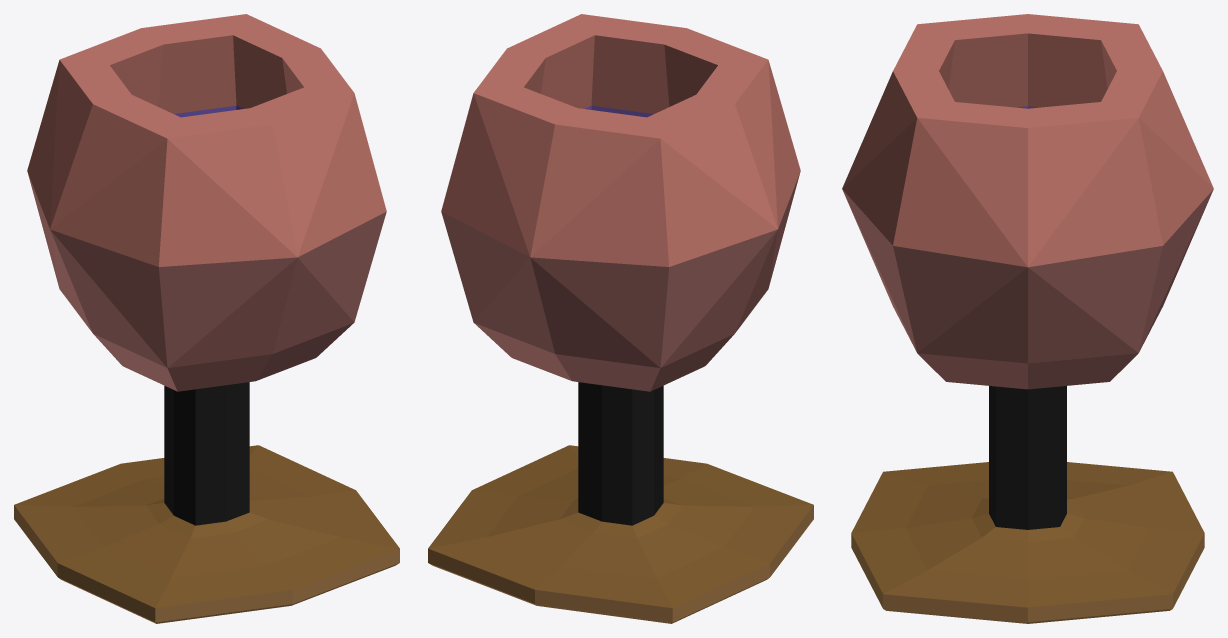
The model's file is bwoop.glb.
3 renders of one model, left to right at view 1: azimuth 30°, elevation 25°; view 2: azimuth 150°, elevation 25°; view 3: azimuth 270°, elevation 25°, orthographic. The views are drawn at different scales.
Visible parts, largest first — view 1: Cube; view 2: Cube; view 3: Cube.
Part boxes in pixels (bbox=[...]): Cube: bbox=[14, 14, 399, 623]; Cube: bbox=[428, 14, 813, 623]; Cube: bbox=[842, 14, 1213, 623].
Size of the model in its own units: 1.68 by 2.39 by 1.68.
Materials: 1 (1 with a texture image).
